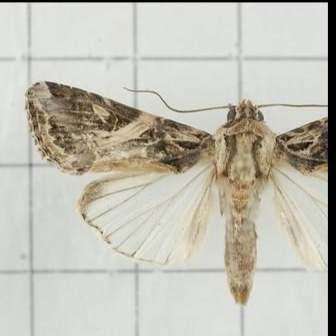Spodoptera litura: (23, 80, 327, 305)
